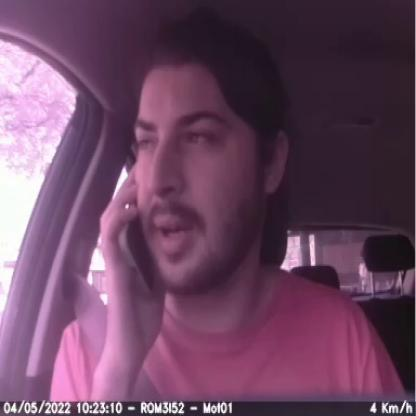phone: (121, 169, 163, 302)
